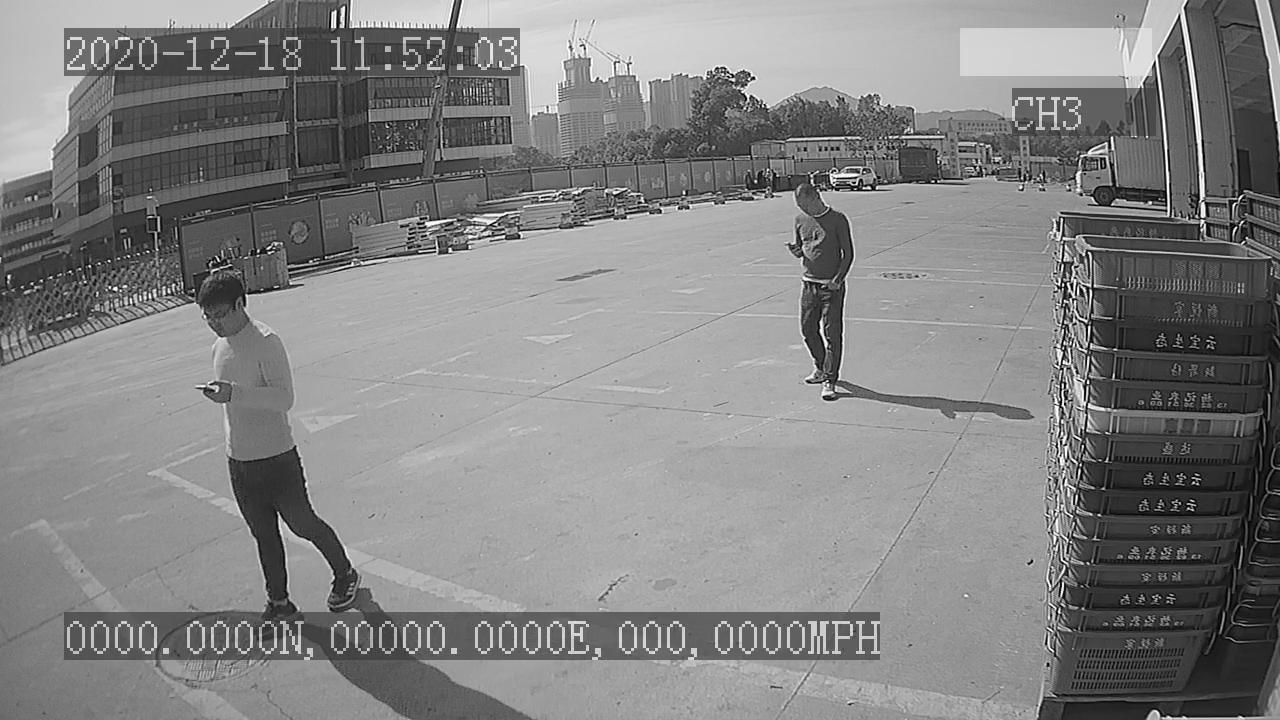person: (770, 179, 859, 404)
